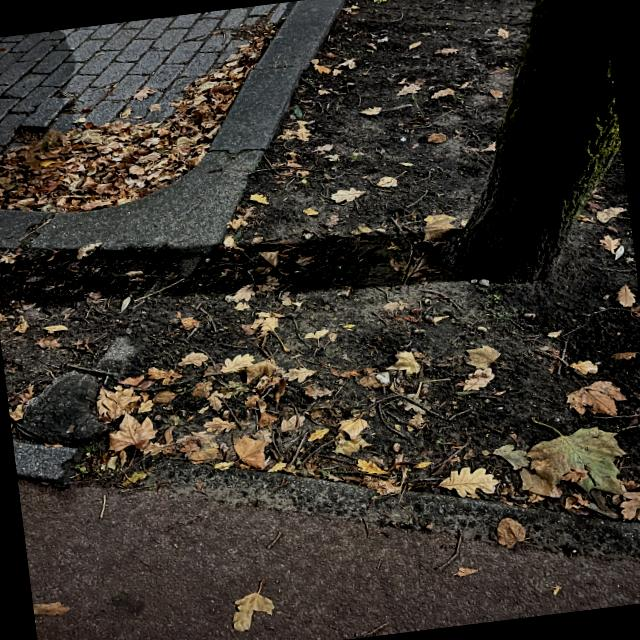leaves: (0, 18, 281, 216), (96, 364, 322, 456), (440, 419, 639, 522), (223, 237, 317, 350), (371, 390, 440, 493), (114, 347, 280, 389), (314, 168, 413, 212), (340, 352, 428, 399), (271, 114, 324, 184), (182, 436, 274, 475), (218, 189, 272, 249), (302, 411, 373, 455), (448, 344, 506, 394), (564, 378, 626, 421), (225, 586, 273, 636), (413, 210, 464, 249), (386, 250, 439, 286), (0, 247, 32, 298), (0, 302, 44, 339), (576, 201, 630, 231), (6, 379, 42, 422), (306, 56, 364, 82), (31, 320, 74, 354), (32, 590, 72, 626), (347, 460, 390, 490), (492, 518, 524, 555), (425, 79, 475, 100), (341, 0, 396, 19), (111, 269, 151, 294), (118, 466, 157, 491), (61, 244, 106, 265), (593, 233, 627, 260), (385, 78, 425, 100), (170, 314, 199, 342), (570, 356, 602, 378), (446, 564, 479, 585), (128, 82, 162, 102), (352, 104, 387, 122), (385, 296, 409, 322), (419, 130, 448, 148), (541, 327, 566, 347), (430, 44, 462, 59), (616, 285, 634, 311), (608, 348, 638, 361), (493, 23, 511, 44), (476, 139, 496, 157), (402, 38, 424, 52), (487, 84, 505, 100), (148, 103, 164, 115)
pavement: (0, 0, 347, 253), (0, 1, 298, 146)
